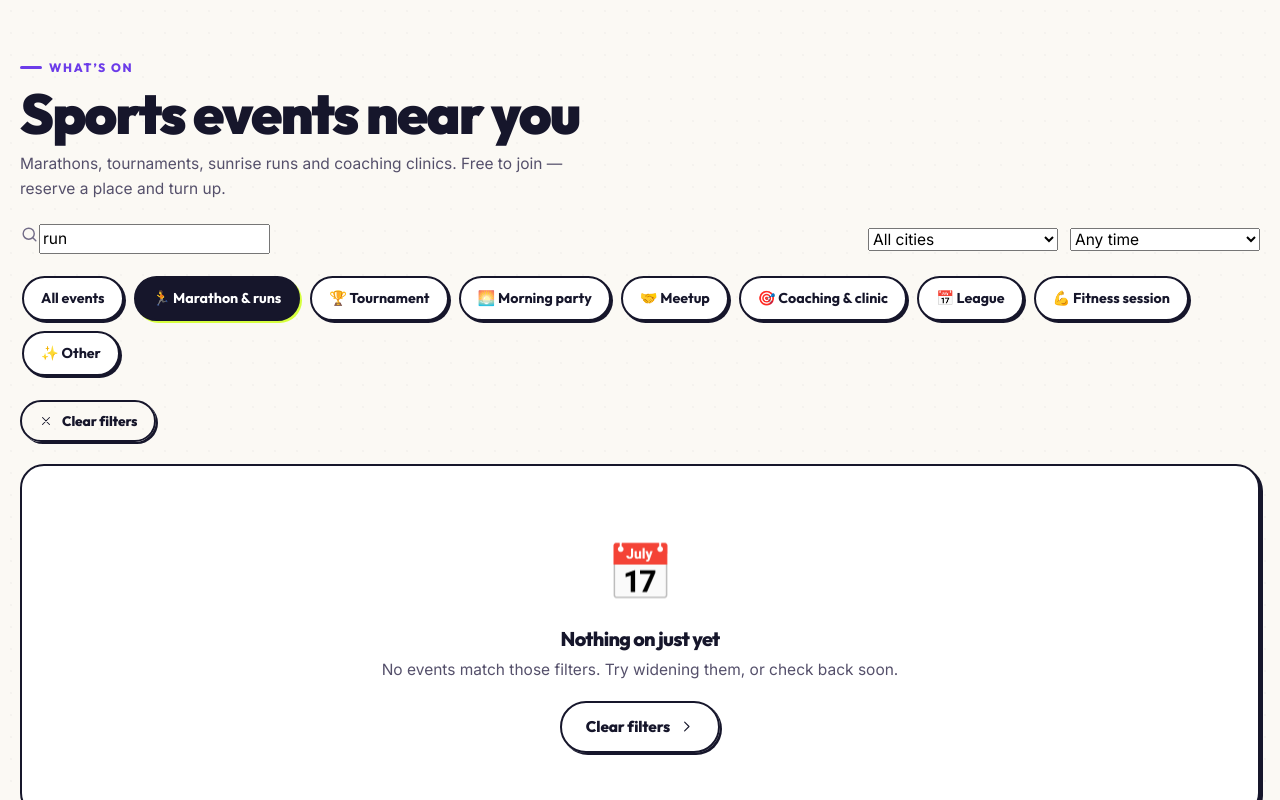
Test: Events › clearing from the empty state empties the search box too
Expected: the field named "Search events" holds "run", left=39, top=224, right=270, bottom=254
Click the button "Clear filters" below "Nothing on just yet" at (640, 727), box left=560, top=701, right=720, bottom=753
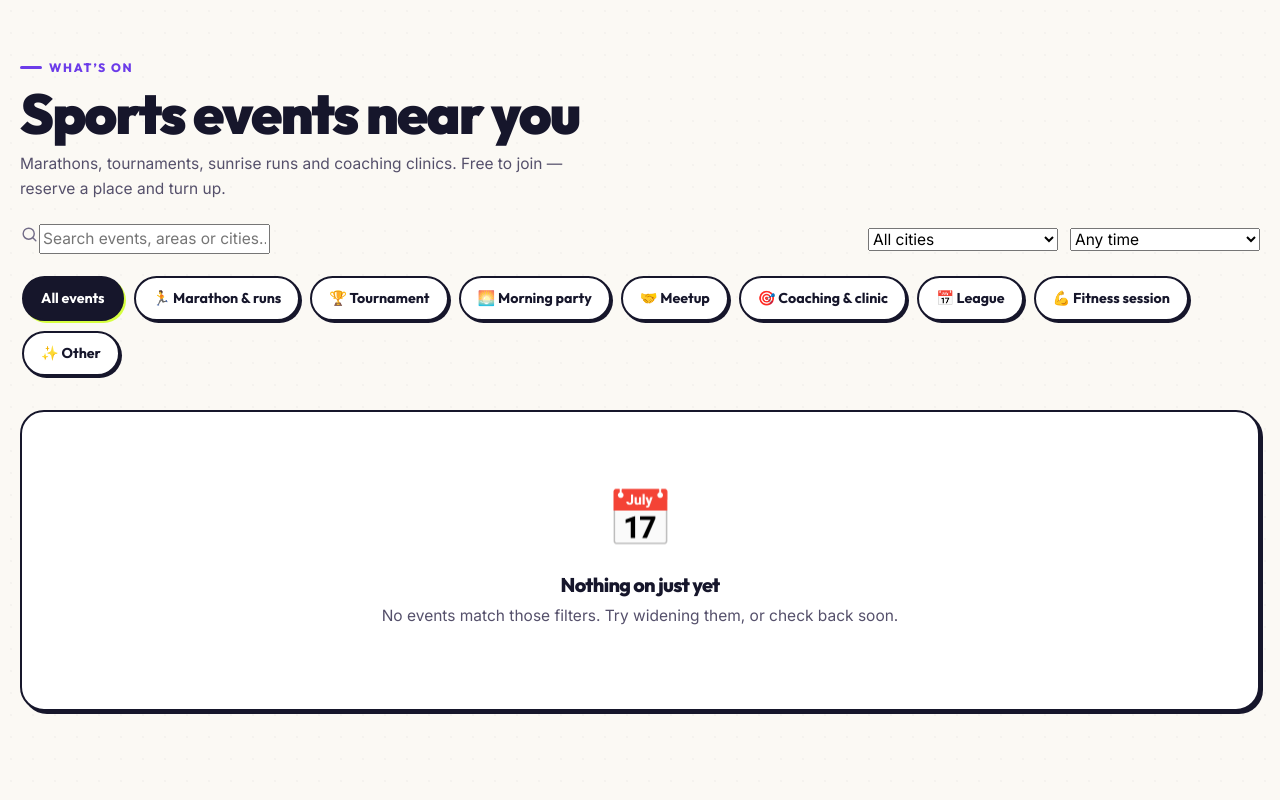
Now the field labelled "Search events" is empty, box left=39, top=224, right=270, bottom=254
